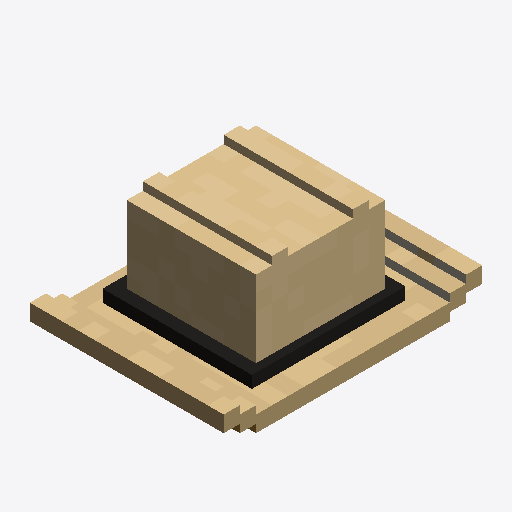
Isometric view (azimuth 45°, elevation 35.3°) of a Minecraft model made of 9 cuboids, textured from the same repository.
Visible parts, largest first — crown, brim, band, brim_west_2, crown_crease_west, crown_crease_east, brim_east_2, brim_east_1, brim_west_1.
Part boxes in pixels (x1,y1,x2,y2): crown: (127,126,384,362); brim: (71,265,449,432); band: (103,275,404,388); brim_west_2: (30,294,239,432); crown_crease_west: (143,172,287,264); crown_crease_east: (224,126,368,217); brim_east_2: (385,210,481,292); brim_east_1: (385,237,465,311); brim_west_1: (55,294,255,432).
Size of the model in its own units: 16 by 7 by 12.